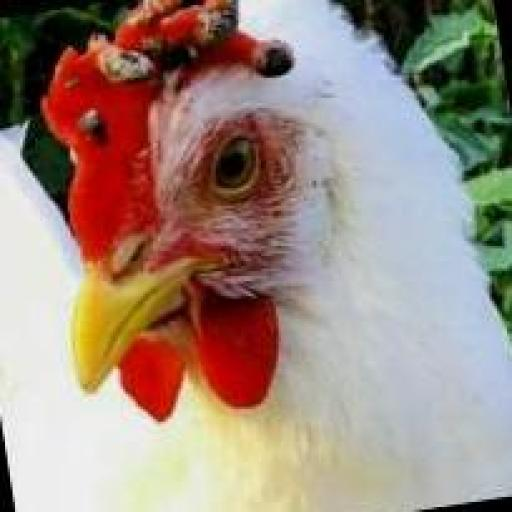disease: (49, 0, 327, 90), (65, 99, 113, 140)
